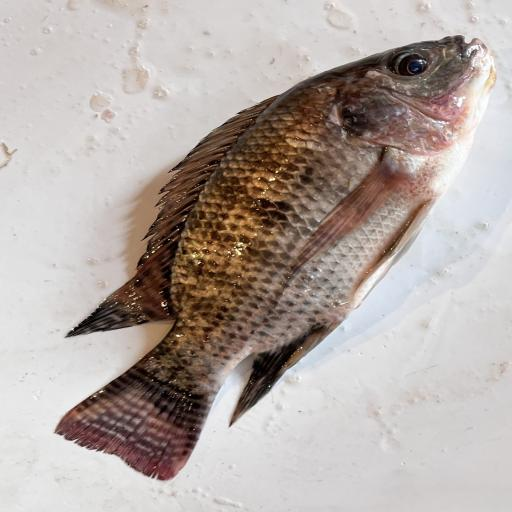Tilapia: (54, 35, 497, 481)
